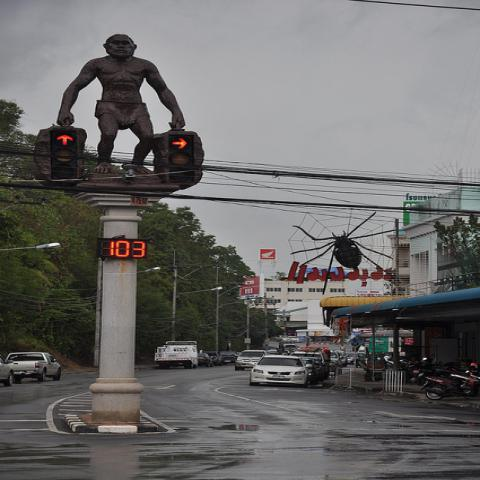car: (250, 354, 309, 388), (288, 348, 322, 362), (302, 358, 320, 384), (0, 354, 13, 386), (329, 350, 346, 372), (198, 352, 216, 368), (202, 351, 220, 366), (336, 350, 348, 366), (222, 354, 238, 364), (346, 354, 358, 365)
motorcycle: (420, 374, 480, 400), (417, 357, 463, 385), (429, 362, 479, 384)
truck: (5, 353, 62, 382), (154, 340, 198, 369), (234, 350, 270, 370)
